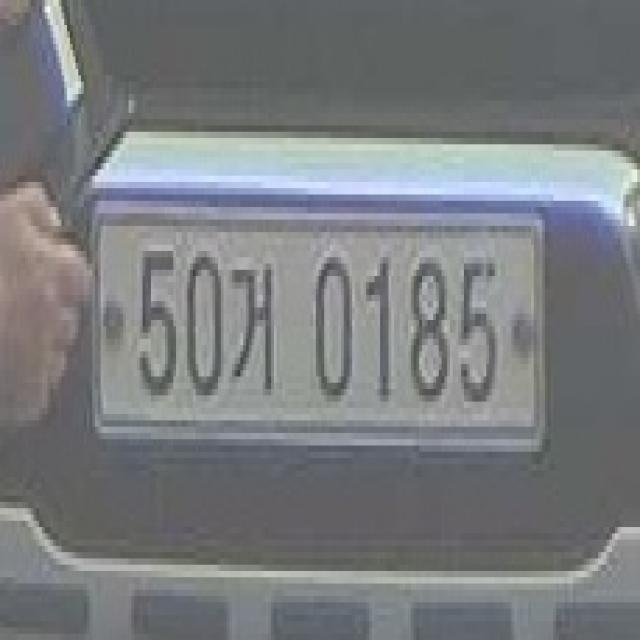0: (304, 254, 356, 413), (186, 242, 222, 403)
1: (361, 248, 394, 407)
5: (462, 255, 506, 419), (138, 244, 178, 401)
8: (410, 251, 450, 413)
geo: (232, 242, 277, 404)
license_plate: (91, 208, 553, 461)
